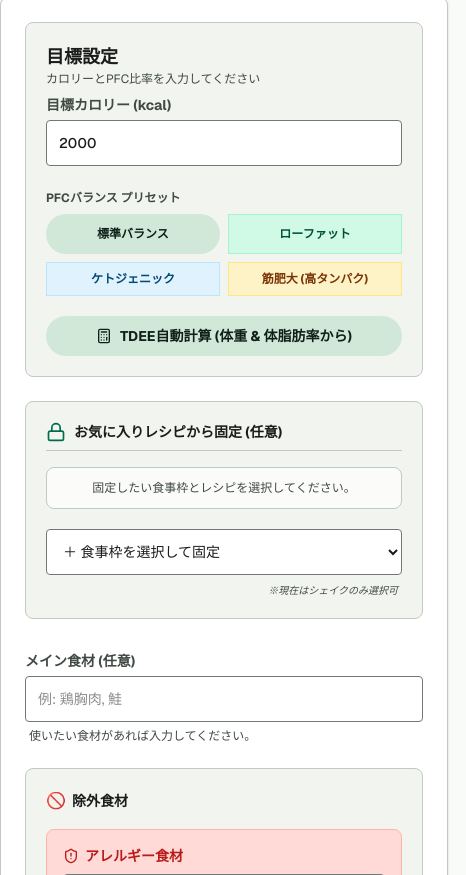
it: InputForm - カロリー超過バリデーション (isCalorieExceeded) › 固定メニューのカロリーが目標カロリー以上になるとSubmitが無効になる
The width and height of the screenshot is (466, 875).
Replace the text in the number field with "270". click: (224, 143)
box: top-left (46, 120), bottom-right (402, 166)
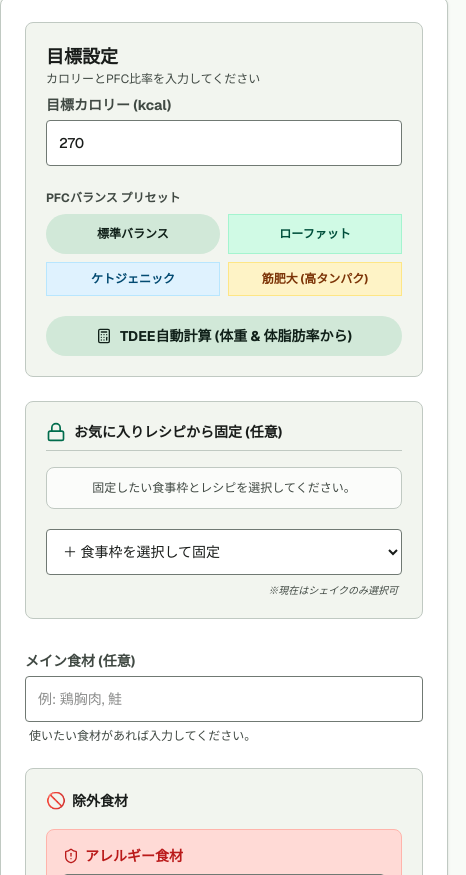
Select "1食目を固定" in the dropdown. click: (224, 552)
box: top-left (46, 529), bottom-right (402, 575)
(page scrolled)
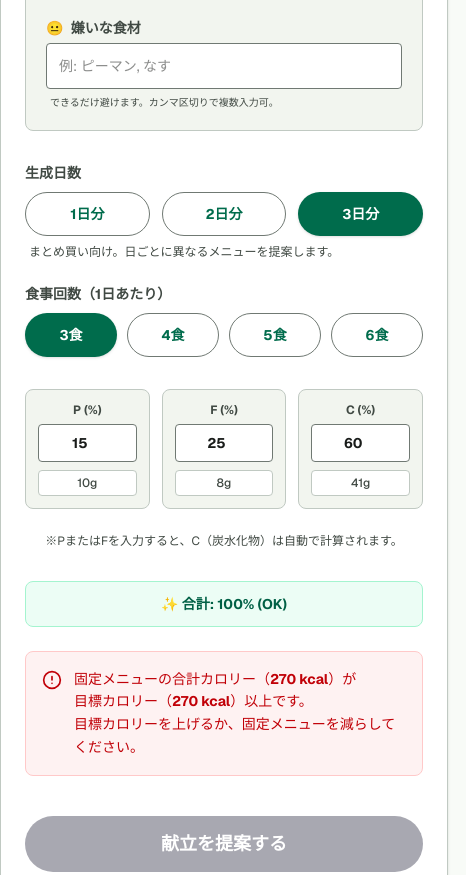
Expected: the button "献立を提案する" is disabled, top-left (25, 816), bottom-right (423, 872)
